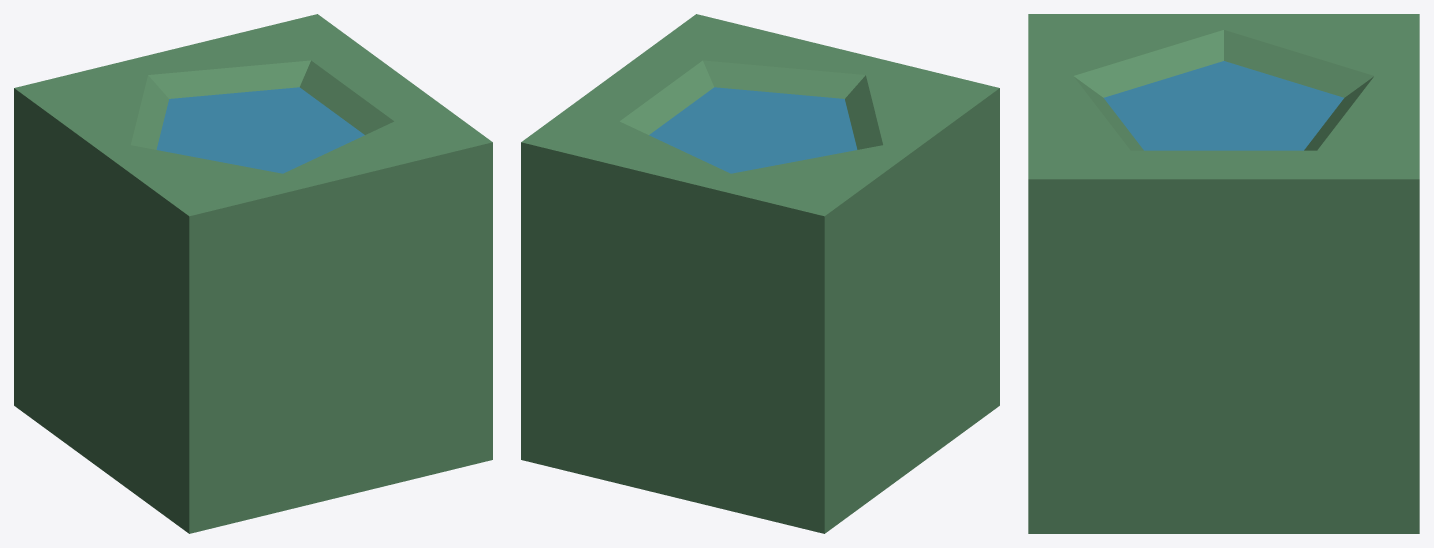
Rendered from pond.glb.
3 views of the same model, side by side, from view 1: azimuth 30°, elevation 25°; view 2: azimuth 150°, elevation 25°; view 3: azimuth 270°, elevation 25° (orthographic). The views are drawn at different scales.
Parts seen in each view (by area): view 1: Pond, Water; view 2: Pond, Water; view 3: Pond, Water.
Boxes of the visible parts, box(x1,y1,x2,y2) form: Pond: box(14, 14, 492, 533); Water: box(156, 87, 364, 173); Pond: box(521, 14, 999, 533); Water: box(649, 87, 857, 173); Pond: box(1028, 14, 1419, 533); Water: box(1104, 61, 1343, 150).
Bounding box in the file's own units: 1 × 1 × 1.
